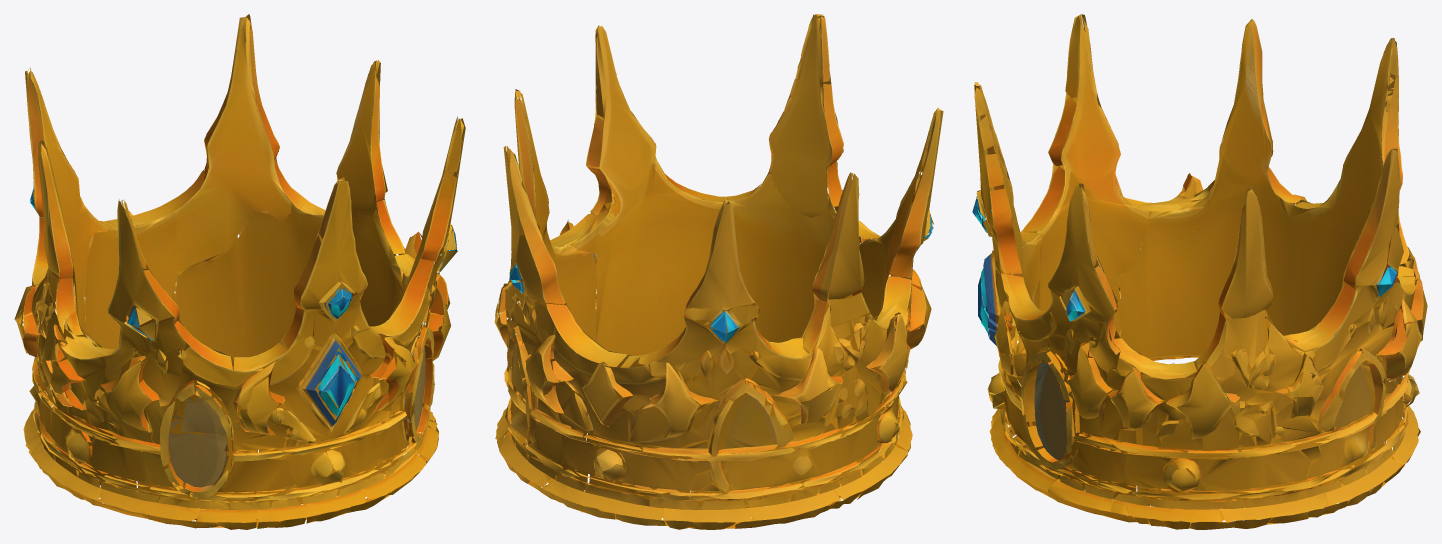
Rendered from raja_petir.fbx.
The picture shows the model from 3 angles, left to right: view 1: azimuth 30°, elevation 25°; view 2: azimuth 150°, elevation 25°; view 3: azimuth 270°, elevation 25°; orthographic projection. The views are drawn at different scales.
Visible parts, largest first — view 1: PetirCrown; view 2: PetirCrown; view 3: PetirCrown.
Part boxes in pixels (x1=…): PetirCrown: x1=14, y1=14, x2=465, y2=529; PetirCrown: x1=494, y1=14, x2=943, y2=529; PetirCrown: x1=972, y1=14, x2=1427, y2=529.
Bounding box in the file's own units: 1.6 × 1.38 × 1.59.
Materials: 1 (1 with a texture image).
